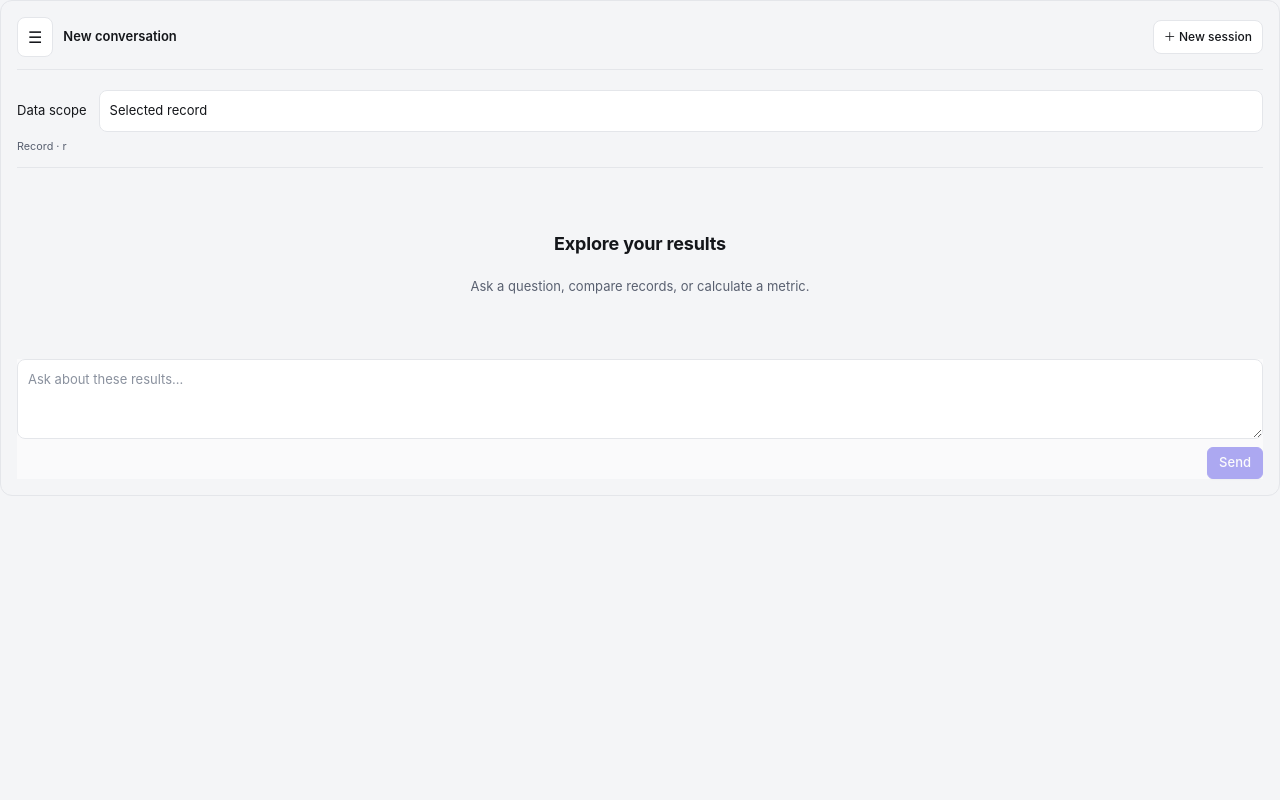
Test case: keeps one history list across data scopes and uses a closeable history drawer within the chat
Step 1. Type "Keep this conversation" into the text box named "Question about results" → [640, 399], box left=17, top=359, right=1263, bottom=439
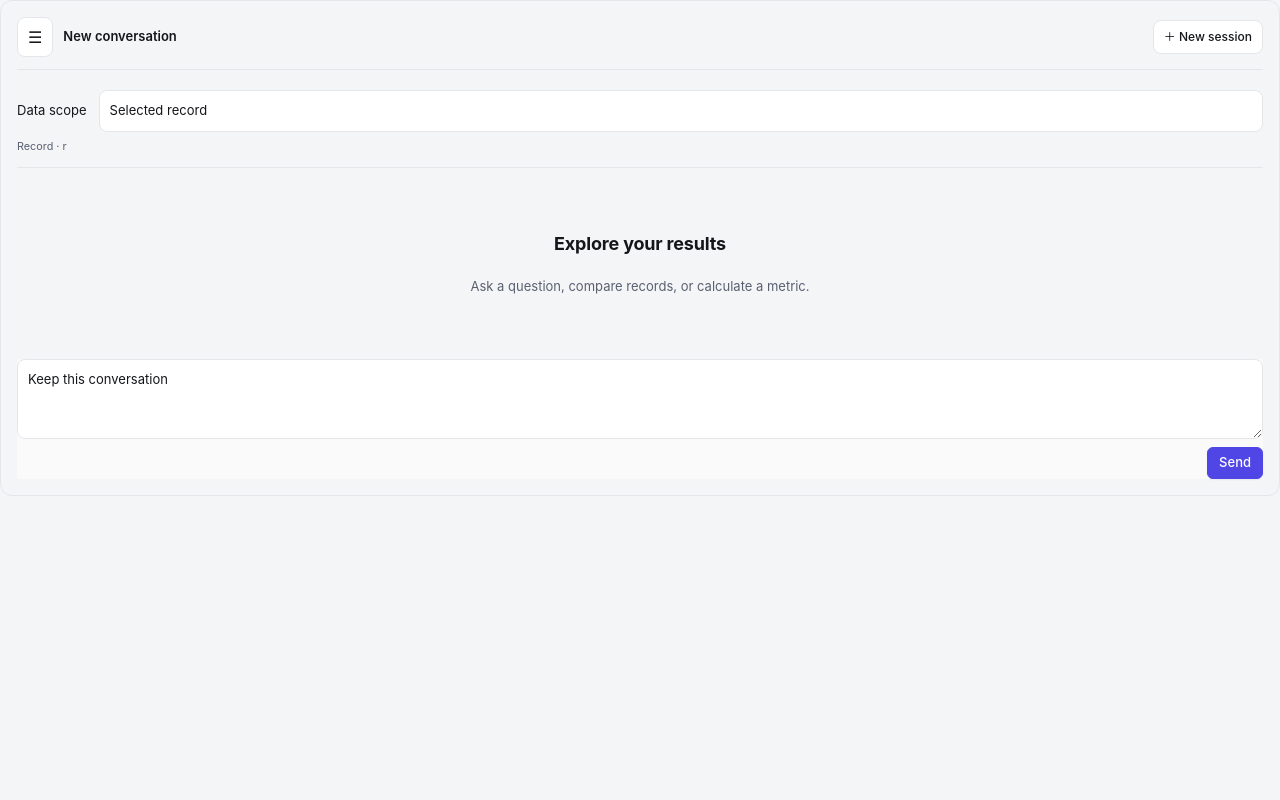
Step 2. Click the button "Send" → [1235, 463], box left=1207, top=447, right=1263, bottom=479
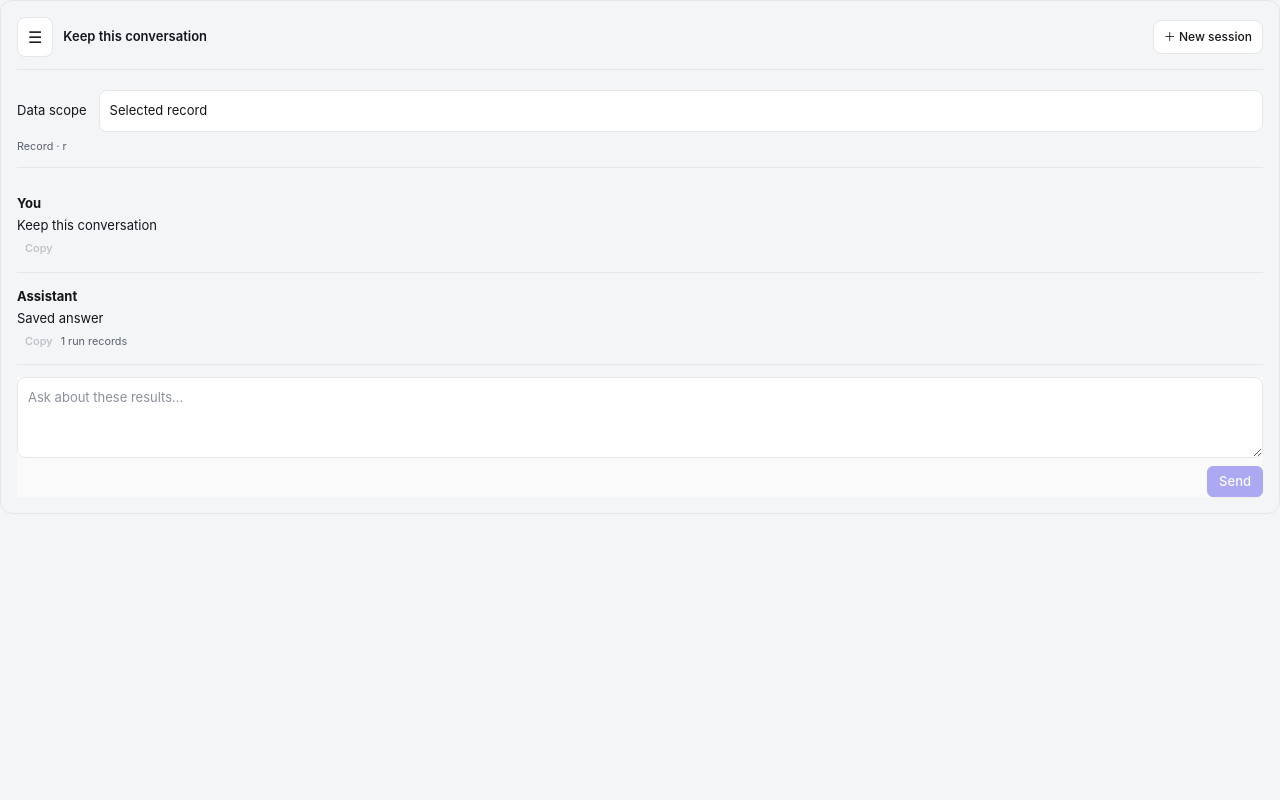
Check: the text "Saved answer" is shown, box left=17, top=310, right=103, bottom=326
Step 3. Select "All task runs" in the dropdown → [681, 111], box left=99, top=90, right=1263, bottom=132
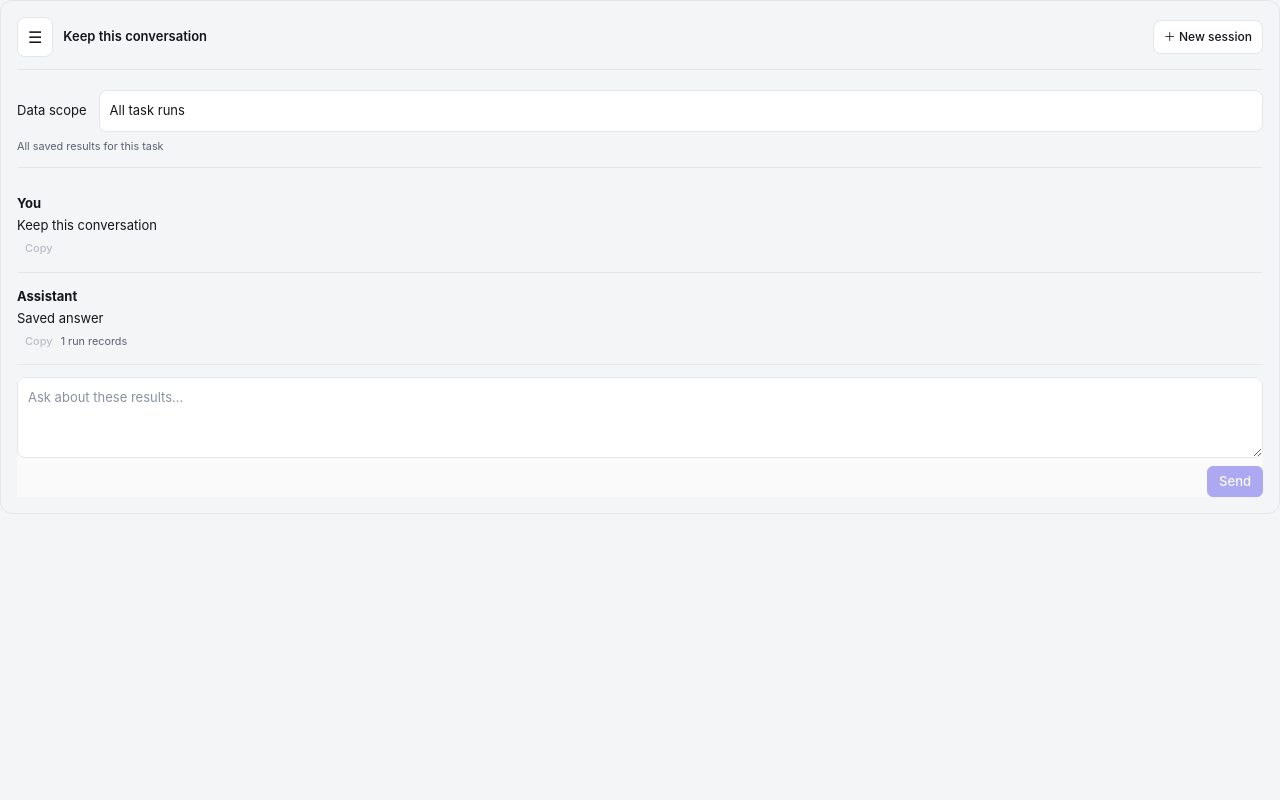
Check: the text "Saved answer" is shown, box left=17, top=310, right=103, bottom=326
Step 4. Click the button named "History (1)" → [35, 37], box left=17, top=17, right=53, bottom=57
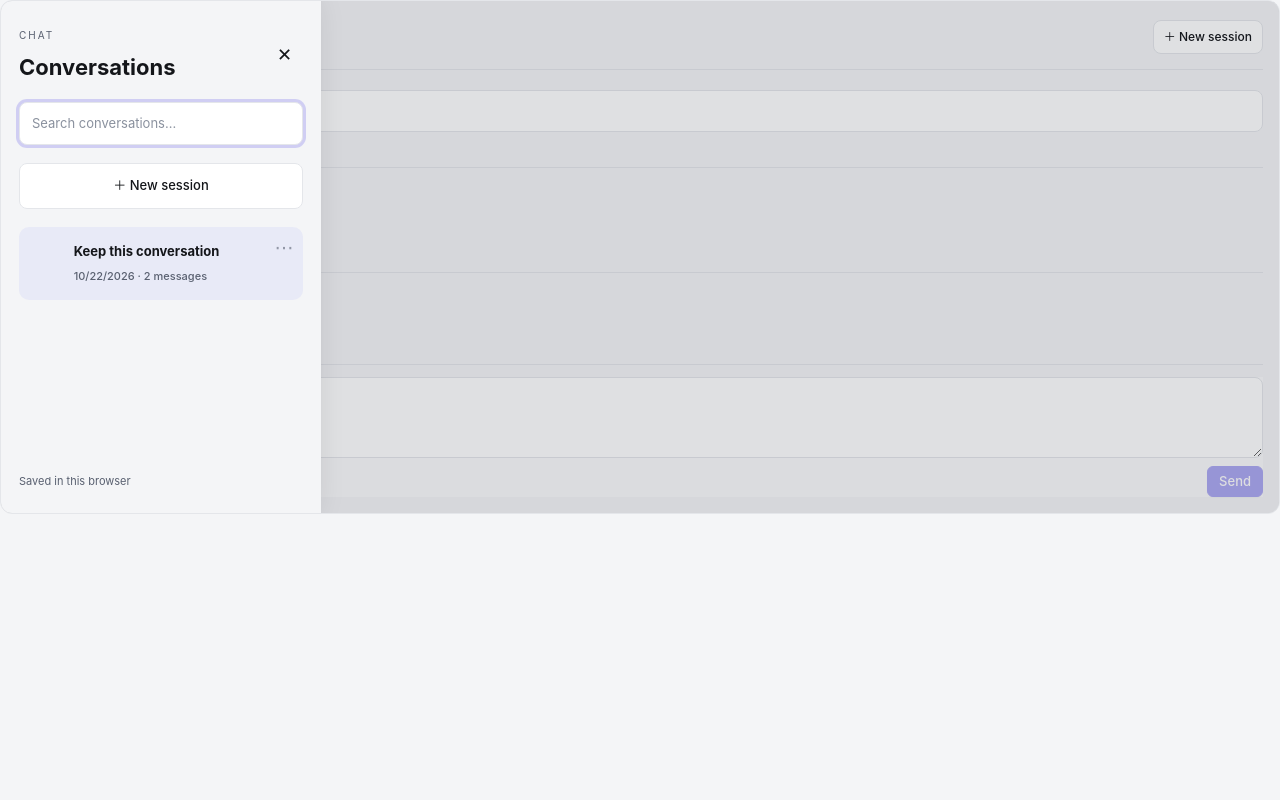
Step 5. Click the button named "Close history" → [284, 54], box left=266, top=36, right=303, bottom=73
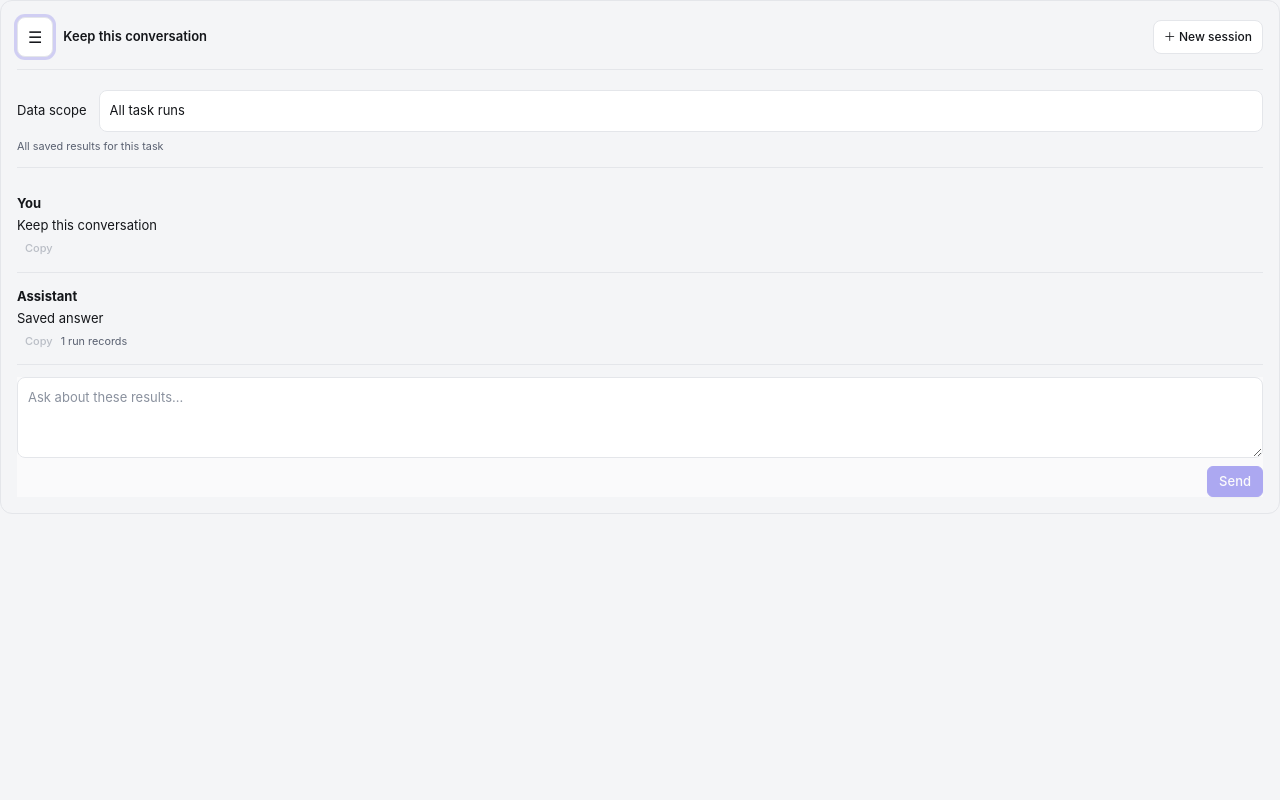
Check: the dialog is gone
